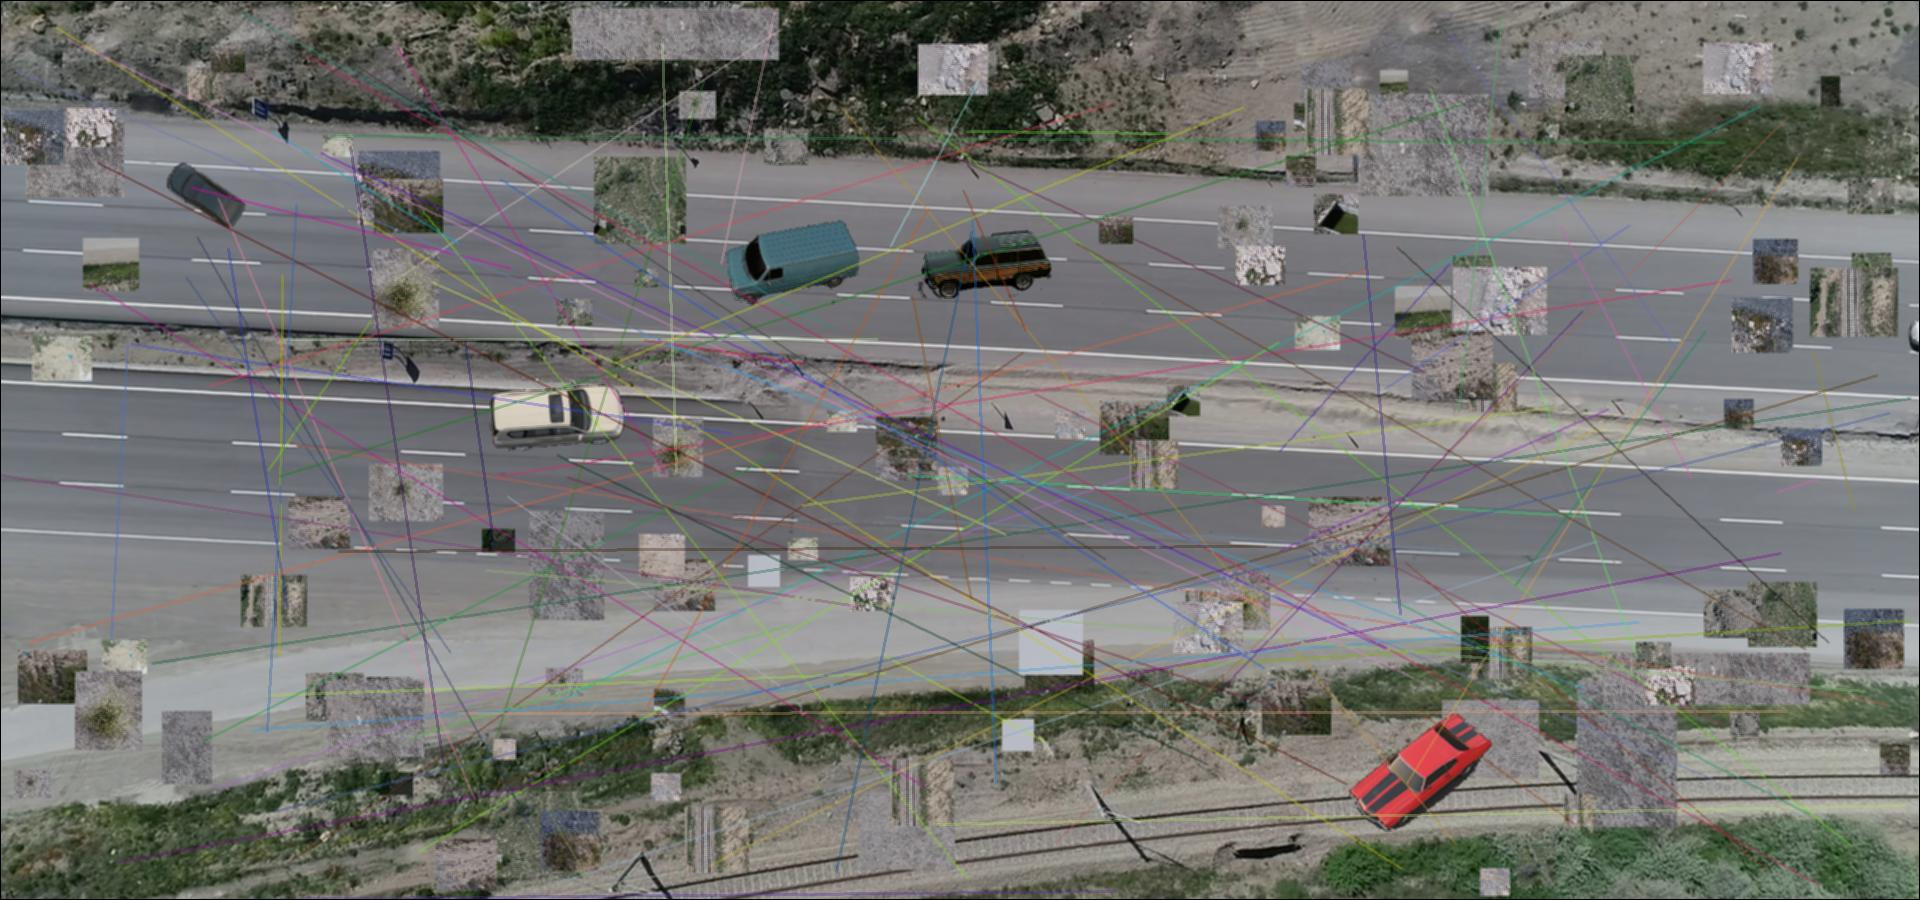arac: (1349, 714, 1493, 831), (724, 219, 860, 306), (489, 381, 628, 451), (915, 228, 1051, 298), (167, 163, 247, 229)
